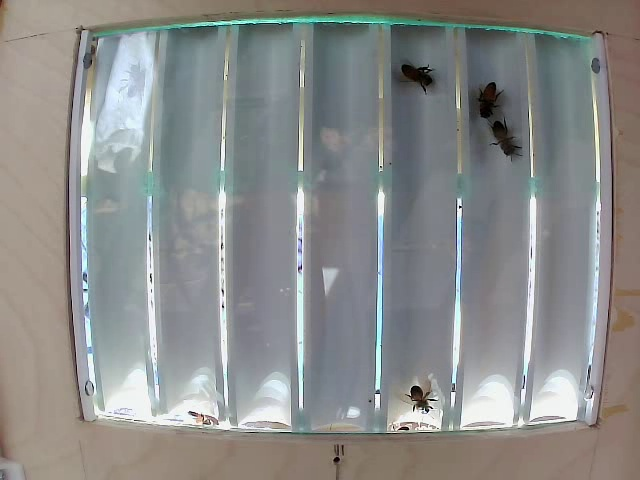bee: (468, 75, 503, 123), (394, 51, 425, 99), (498, 116, 519, 168)
